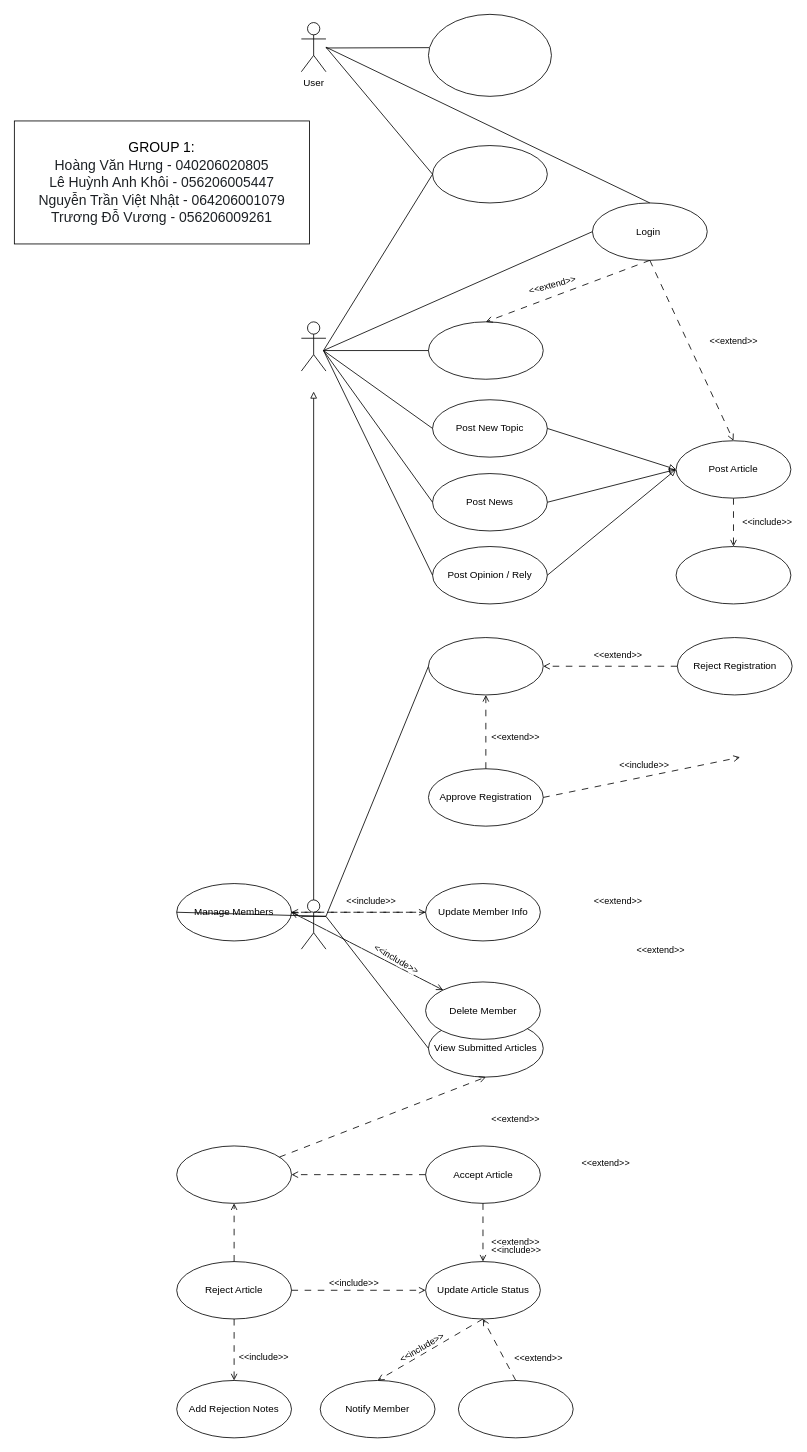
Some shapes in this 807 by 1452 pixel diagram are drawn without their labels. The centre of each missing label's shape, as x and y in pixels:
"Administrator" belongs at [313,924].
"Display On The Forum" belongs at [515,1409].
"Member" belongs at [313,346].
"Register" belongs at [489,55].
"Review Article" belongs at [234,1174].
"Use Text Editor" belongs at [733,575].
"View Forum" belongs at [489,174].
"View Notifications" belongs at [485,350].
"View Submited Registrations" belongs at [485,666].
